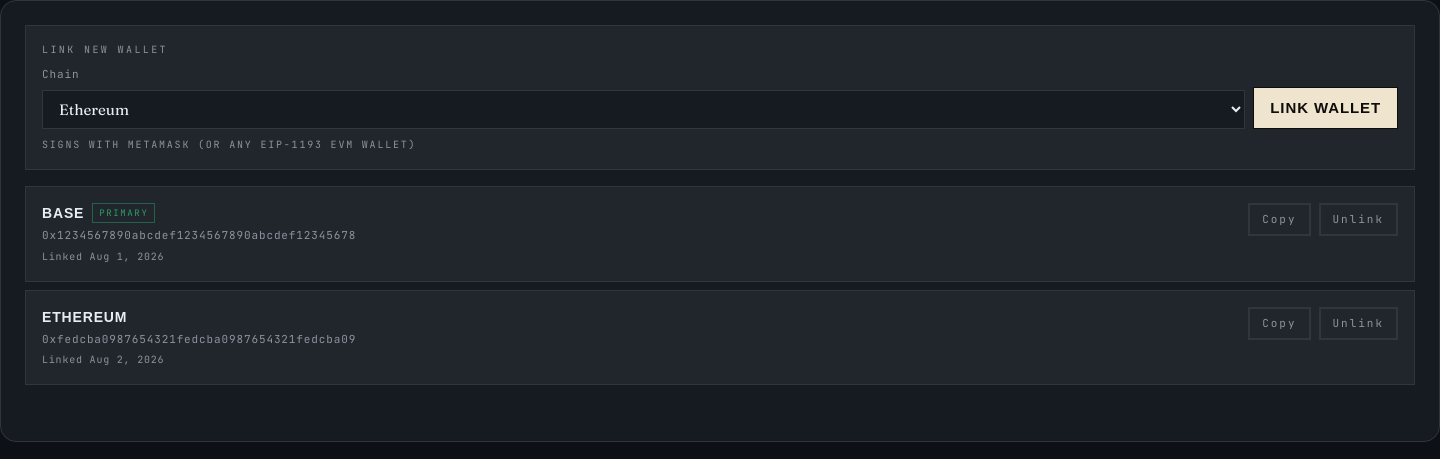
Scenario: copy address › copying a SECOND wallet leaves exactly one populated region
This screenshot has width=1440, height=459.
Click the button with aria-label "Copy Base wallet address" at (1279, 219), box [1248,203,1310,236]
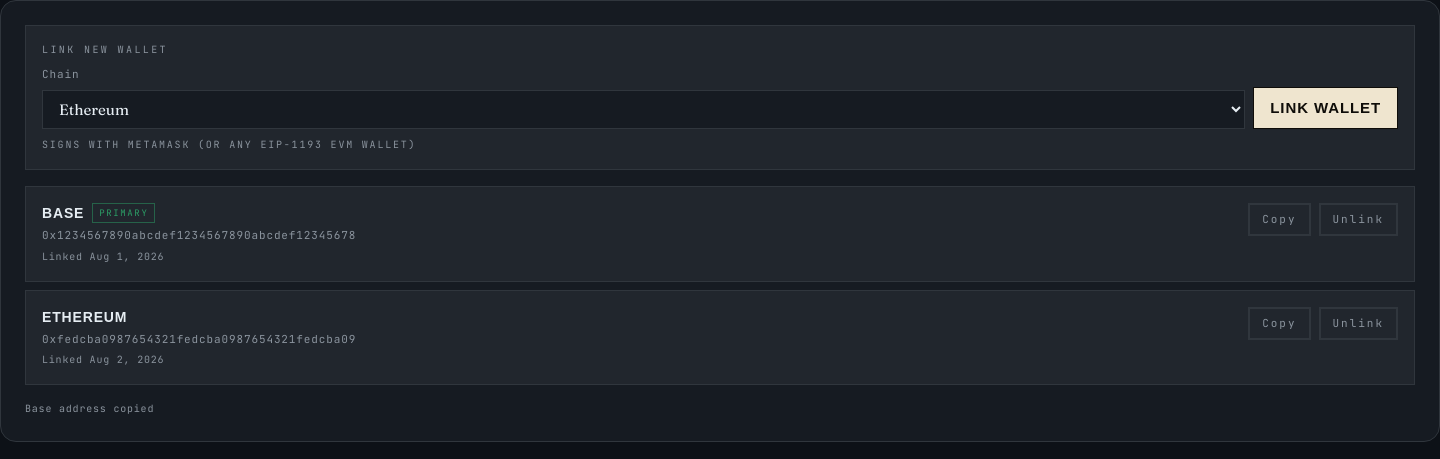
expect the text "Base address copied" is shown: met, box [25,402,154,415]
Well inside the 1400ms confirm window — the old bug's exact timing.
Click the button with aria-label "Copy Ethereum wallet address" at (1279, 323), box [1248,307,1310,340]
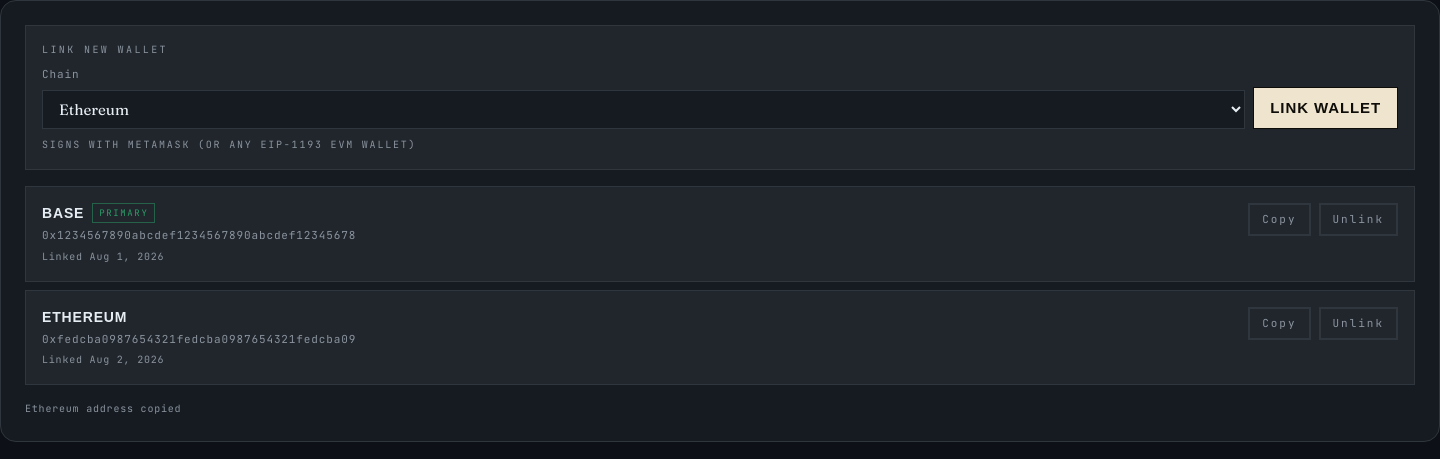
expect the text "0xfedcba0987654321fedcba0987654321fedcba09" is shown: met, box [42,331,356,348]
expect the text "Ethereum address copied" is shown: met, box [25,402,181,415]
expect the text "Base address copied" is gone: met
